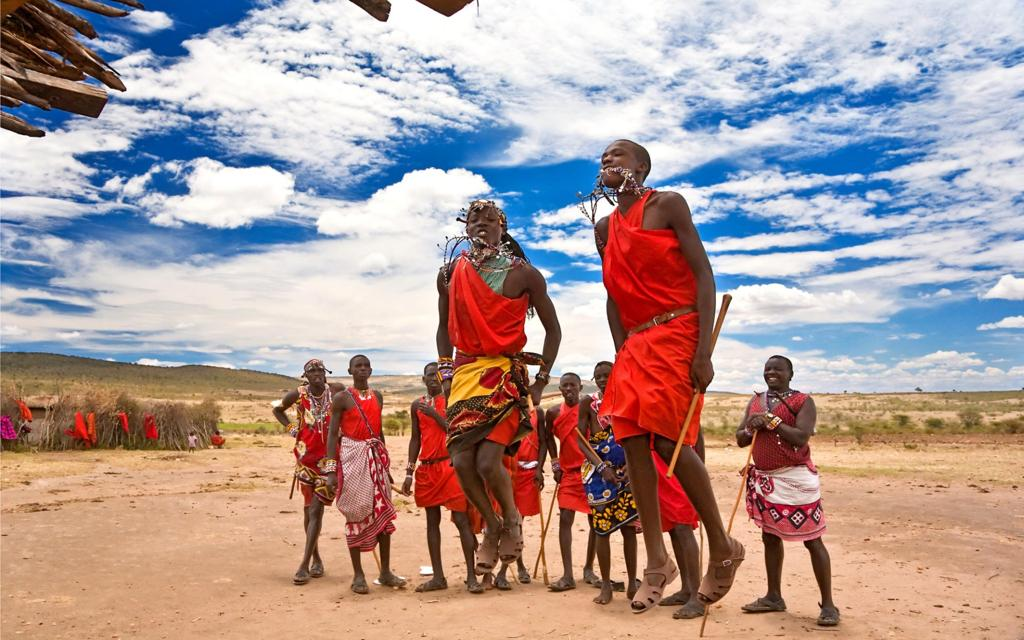face: (599, 141, 636, 185), (463, 209, 499, 253), (763, 358, 788, 387), (593, 365, 613, 391), (560, 375, 579, 402), (424, 366, 442, 391), (350, 358, 369, 380), (306, 363, 324, 385)
